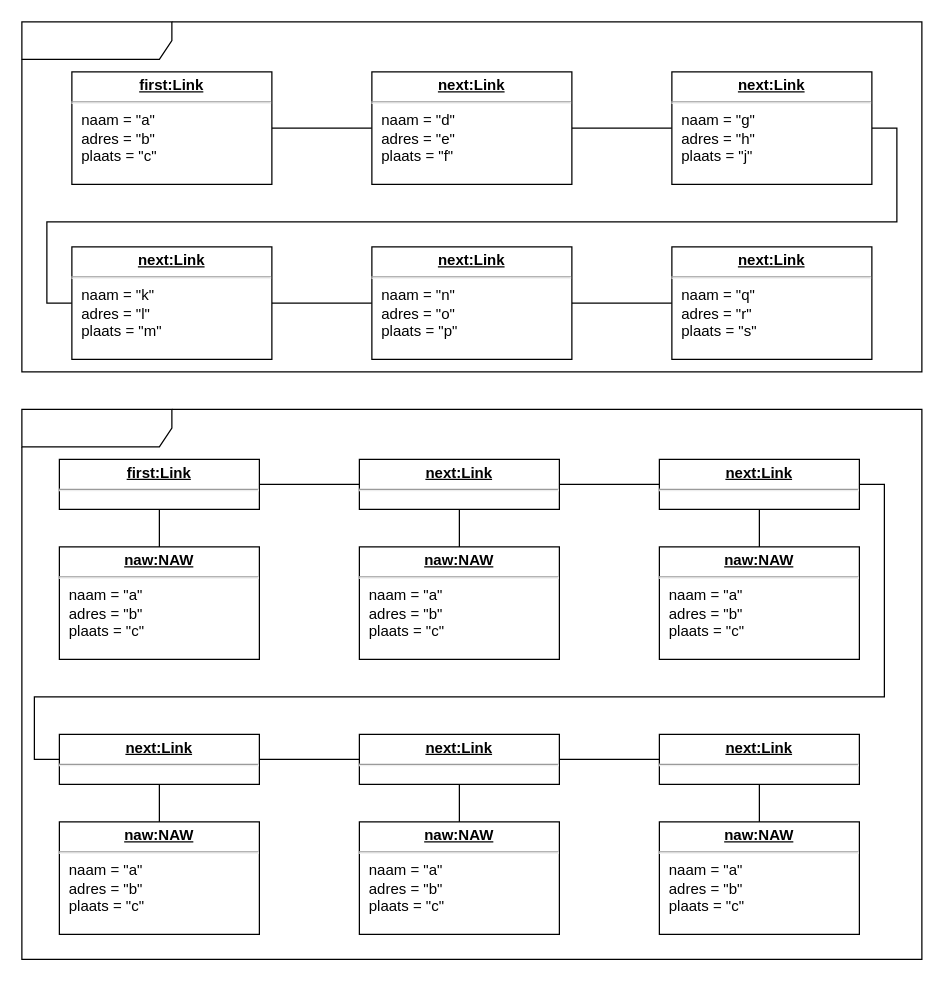
Some shapes in this 944 by 981 pixel diagram are drawn without their labels. Each missing label, with the centre of its shape:
"Implementation A" belongs at [471,196].
"Implementation B" belongs at [471,683].
